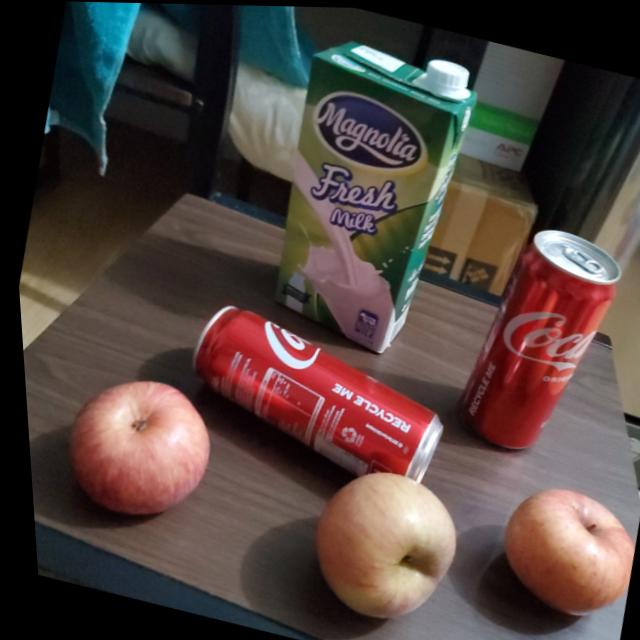apple: (293, 457, 469, 635), (46, 366, 218, 535), (479, 475, 640, 626)
coke: (167, 300, 453, 490), (437, 209, 638, 467)
milk: (245, 20, 493, 361)
